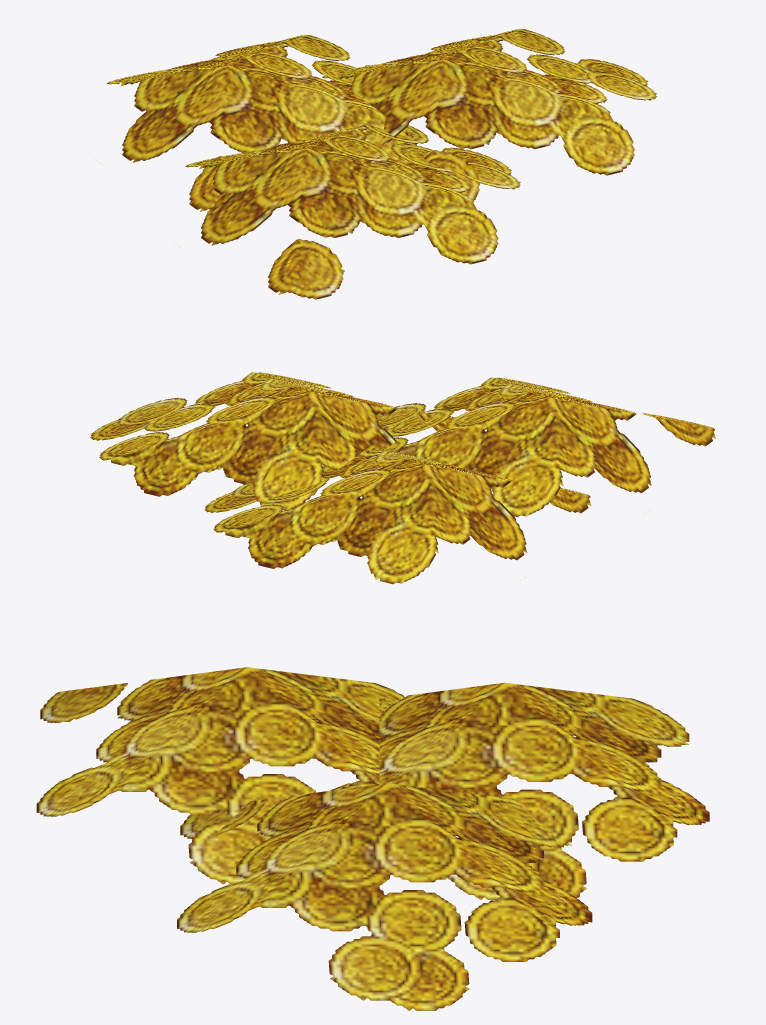
The model's file is drop_ch_money_normal.glb.
3 views of the same model, one above another, from view 1: azimuth 30°, elevation 25°; view 2: azimuth 150°, elevation 25°; view 3: azimuth 270°, elevation 25° (orthographic). The views are drawn at different scales.
Parts seen in each view (by area): view 1: drop_ch_money_normal; view 2: drop_ch_money_normal; view 3: drop_ch_money_normal.
Boxes of the visible parts, x1,y1,x2,y2 form: drop_ch_money_normal: (107, 29, 657, 299); drop_ch_money_normal: (90, 372, 715, 584); drop_ch_money_normal: (36, 667, 709, 1010).
Bounding box in the file's own units: 0.55 × 0.0806 × 0.5481.
Materials: 1 (1 with a texture image).
